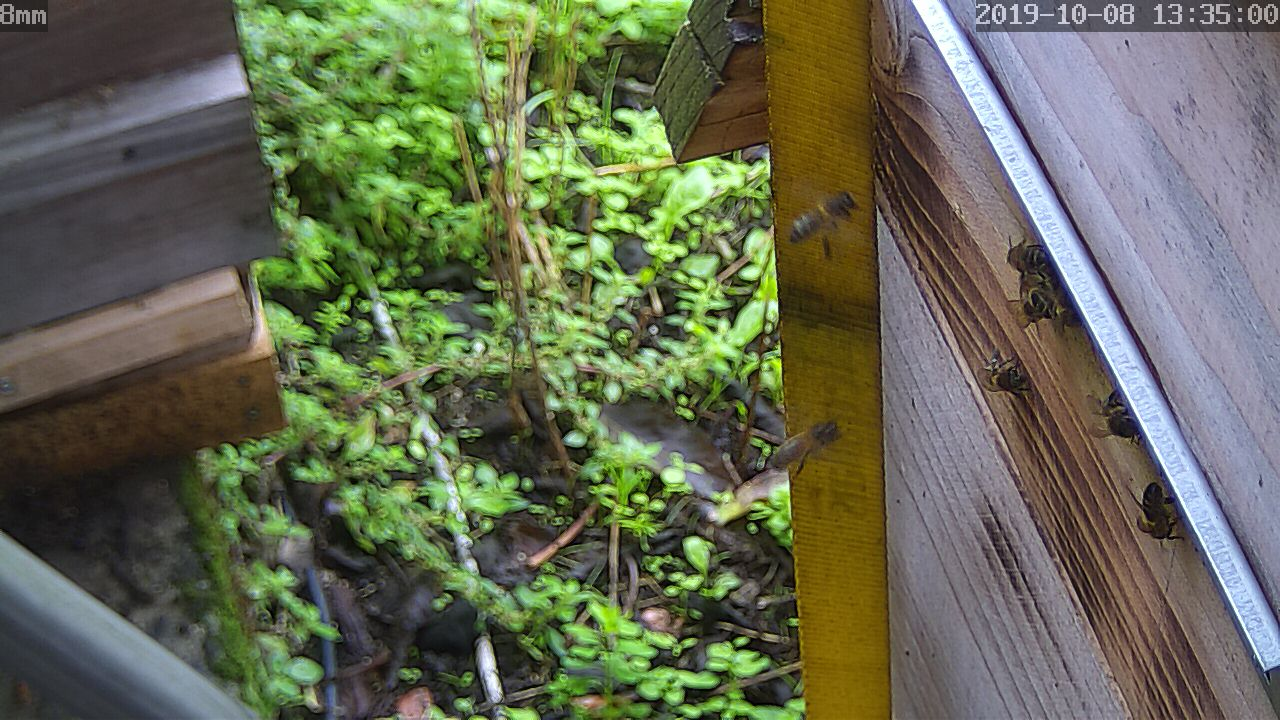bee: (777, 183, 865, 267), (996, 235, 1058, 331), (765, 417, 852, 481), (1124, 471, 1179, 541), (972, 345, 1035, 401), (1086, 385, 1134, 450)
